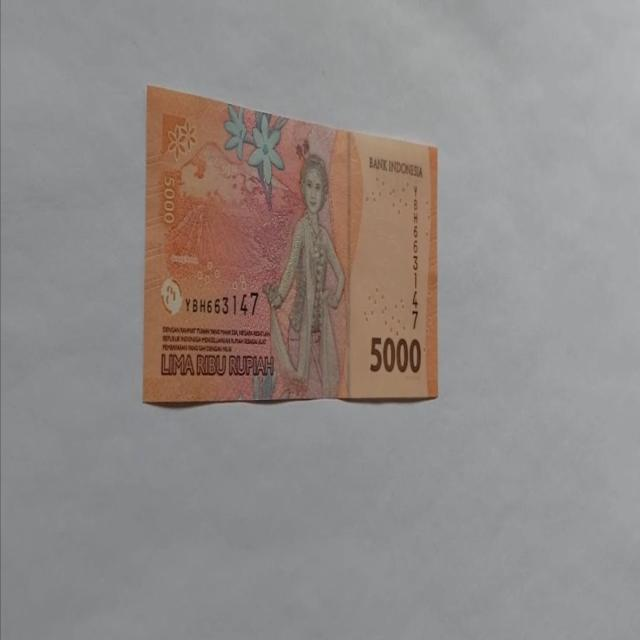lima ribu rupiah: (142, 82, 439, 406), (262, 153, 346, 399)
